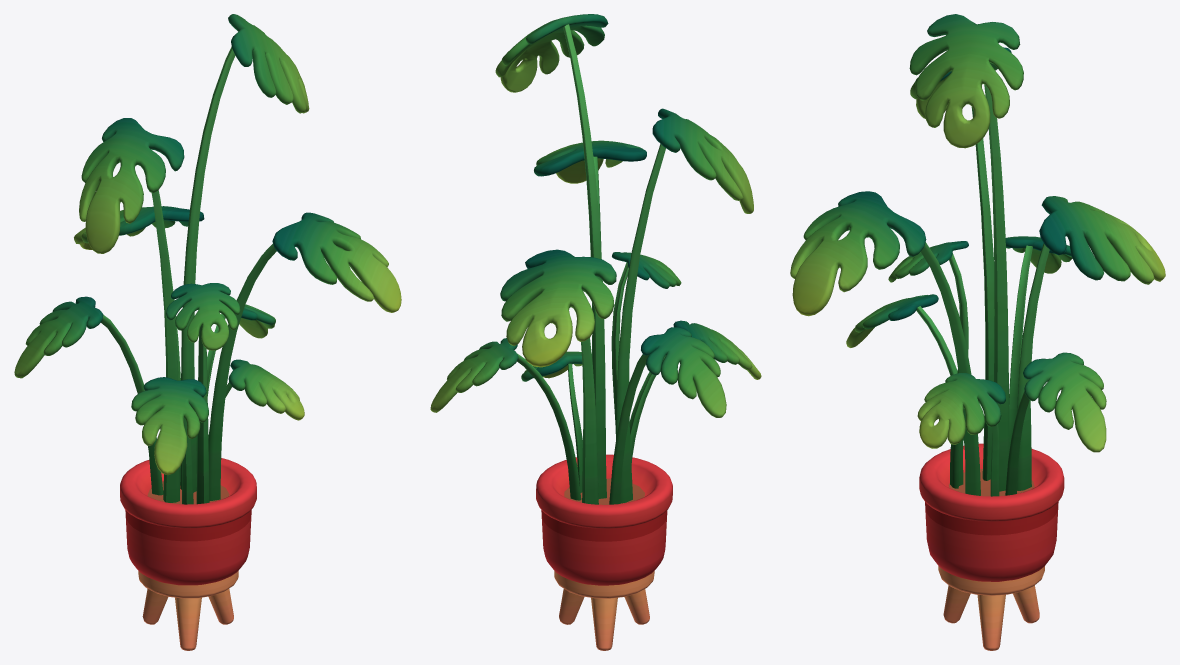
File: Plants_16.glb
3 views of the same model, side by side, from view 1: azimuth 30°, elevation 25°; view 2: azimuth 150°, elevation 25°; view 3: azimuth 270°, elevation 25° (orthographic). The views are drawn at different scales.
Visible parts, largest first — view 1: Plants_16; view 2: Plants_16; view 3: Plants_16.
Boxes of the visible parts, x1,y1,x2,y2 form: Plants_16: (14, 14, 401, 650); Plants_16: (430, 14, 761, 650); Plants_16: (790, 14, 1165, 650).
Size of the model in its own units: 1.14 by 2.37 by 1.27.
Materials: 1 (1 with a texture image).
